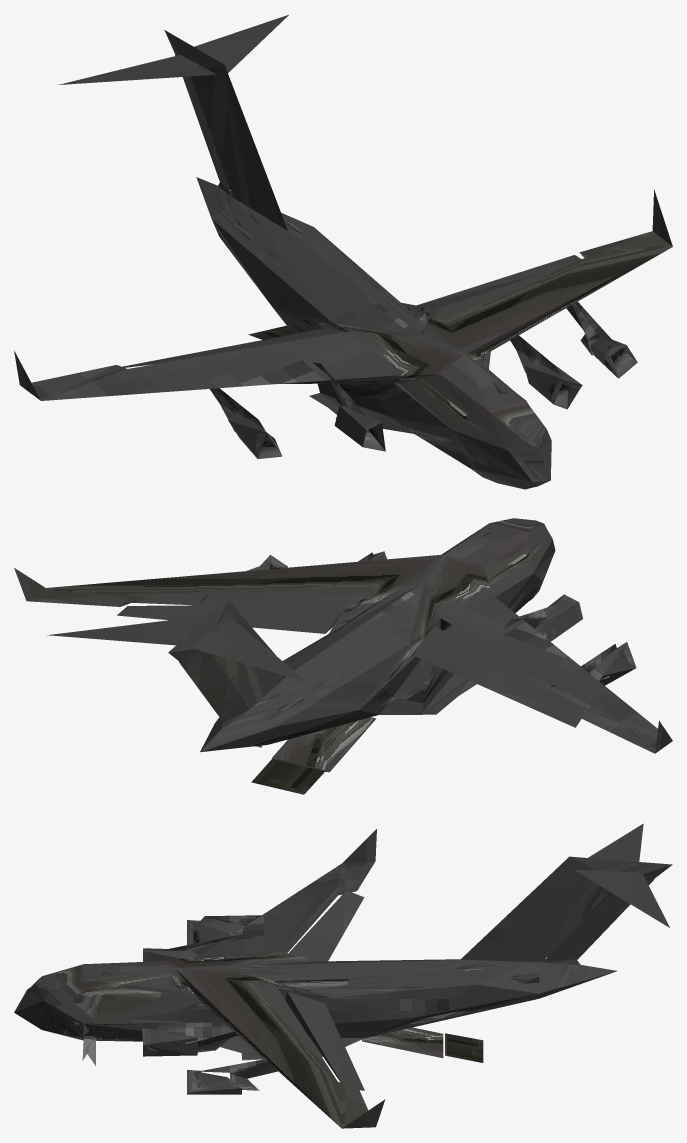
3 views of the same model, one above another, from view 1: azimuth 30°, elevation 25°; view 2: azimuth 150°, elevation 25°; view 3: azimuth 270°, elevation 25° (orthographic). The views are drawn at different scales.
Visible parts, largest first — view 1: Object_4; view 2: Object_4; view 3: Object_4.
Boxes of the visible parts, bbox=[...] form: Object_4: bbox=[14, 15, 672, 489]; Object_4: bbox=[14, 518, 672, 794]; Object_4: bbox=[14, 823, 672, 1128].
Bounding box in the file's own units: 52.35 × 17.63 × 53.91.
Materials: 1 (1 with a texture image).
